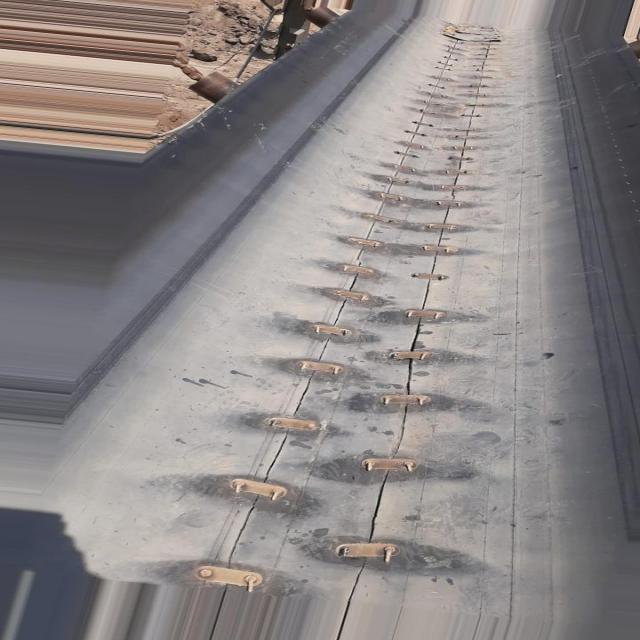Roller: (192, 69, 252, 98), (296, 0, 342, 29)
patch work: (158, 13, 534, 597)
